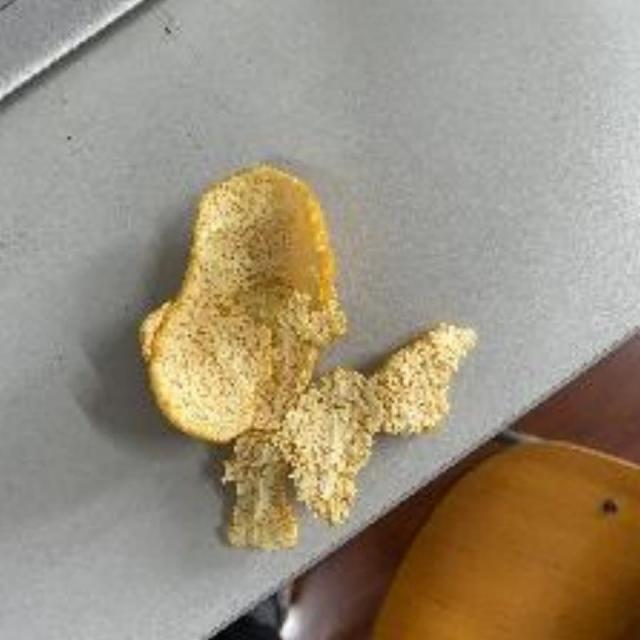orange-peel: (138, 161, 478, 558)
